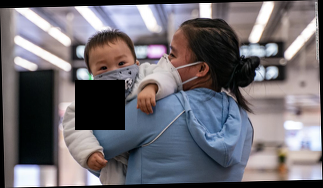with_mask: (91, 53, 141, 103), (156, 43, 183, 93)
